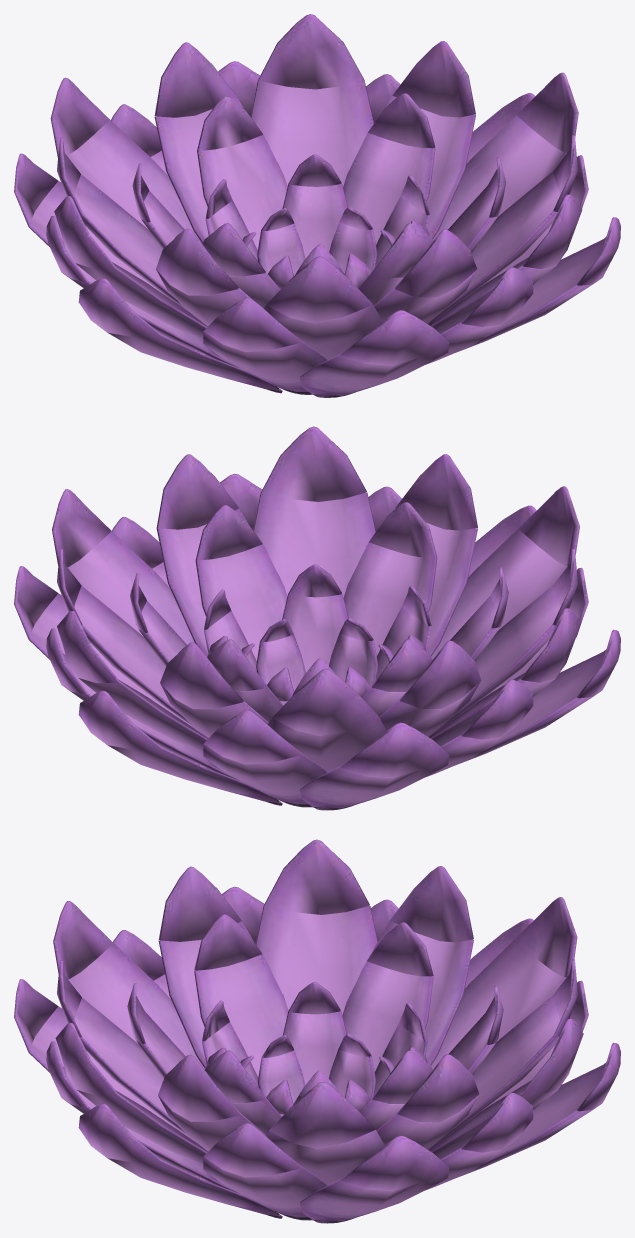
3 renders of one model, top to bottom at view 1: azimuth 30°, elevation 25°; view 2: azimuth 150°, elevation 25°; view 3: azimuth 270°, elevation 25°, orthographic.
Visible parts, largest first — view 1: Flower_Lotus_Stylized_Lotus_0_003, Flower_Lotus_Stylized_Lotus_0_007, Flower_Lotus_Stylized_Lotus_0_008, Flower_Lotus_Stylized_Lotus_0_005, Flower_Lotus_Stylized_Lotus_0_002, Flower_Lotus_Stylized_Lotus_0_006, Flower_Lotus_Stylized_Lotus_0_004; view 2: Flower_Lotus_Stylized_Lotus_0_003, Flower_Lotus_Stylized_Lotus_0_006, Flower_Lotus_Stylized_Lotus_0_005, Flower_Lotus_Stylized_Lotus_0_004, Flower_Lotus_Stylized_Lotus_0_007, Flower_Lotus_Stylized_Lotus_0_002, Flower_Lotus_Stylized_Lotus_0_008; view 3: Flower_Lotus_Stylized_Lotus_0_003, Flower_Lotus_Stylized_Lotus_0_002, Flower_Lotus_Stylized_Lotus_0_004, Flower_Lotus_Stylized_Lotus_0_008, Flower_Lotus_Stylized_Lotus_0_006, Flower_Lotus_Stylized_Lotus_0_007, Flower_Lotus_Stylized_Lotus_0_005.
Part boxes in pixels (x1,y1,x2,y2): Flower_Lotus_Stylized_Lotus_0_003: (50, 14, 582, 359); Flower_Lotus_Stylized_Lotus_0_007: (78, 278, 327, 394); Flower_Lotus_Stylized_Lotus_0_008: (300, 267, 533, 397); Flower_Lotus_Stylized_Lotus_0_005: (14, 153, 238, 367); Flower_Lotus_Stylized_Lotus_0_002: (458, 155, 620, 351); Flower_Lotus_Stylized_Lotus_0_006: (111, 61, 259, 174); Flower_Lotus_Stylized_Lotus_0_004: (366, 74, 535, 163); Flower_Lotus_Stylized_Lotus_0_003: (52, 426, 580, 772); Flower_Lotus_Stylized_Lotus_0_006: (78, 690, 327, 807); Flower_Lotus_Stylized_Lotus_0_005: (300, 679, 533, 810); Flower_Lotus_Stylized_Lotus_0_004: (14, 566, 239, 780); Flower_Lotus_Stylized_Lotus_0_007: (459, 567, 620, 763); Flower_Lotus_Stylized_Lotus_0_002: (112, 473, 262, 586); Flower_Lotus_Stylized_Lotus_0_008: (368, 486, 536, 576); Flower_Lotus_Stylized_Lotus_0_003: (53, 839, 583, 1185); Flower_Lotus_Stylized_Lotus_0_002: (78, 1103, 327, 1220); Flower_Lotus_Stylized_Lotus_0_004: (300, 1092, 533, 1223); Flower_Lotus_Stylized_Lotus_0_008: (14, 979, 239, 1193); Flower_Lotus_Stylized_Lotus_0_006: (459, 980, 620, 1176); Flower_Lotus_Stylized_Lotus_0_007: (113, 886, 264, 998); Flower_Lotus_Stylized_Lotus_0_005: (371, 899, 533, 987).
Bounding box in the file's own units: 0.1283 × 0.0546 × 0.1286.
8 materials, 7 textured.
